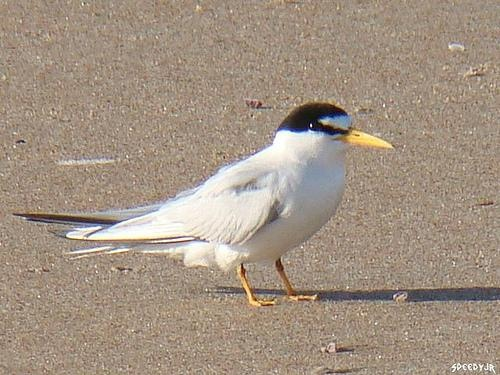bird: (8, 103, 395, 306)
